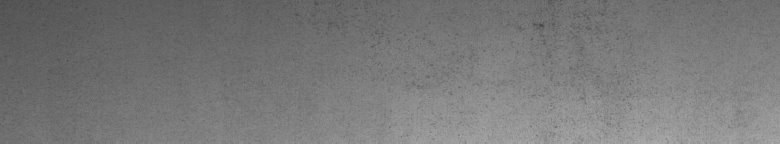ib: (508, 10, 605, 104)
